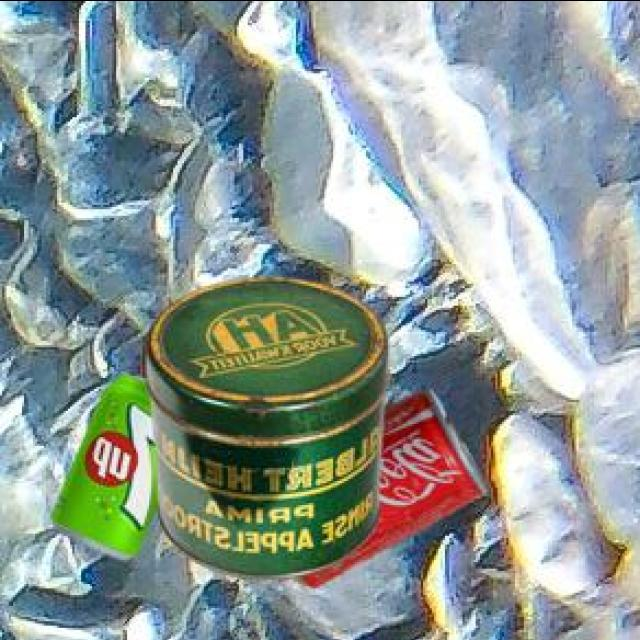logam: (144, 273, 385, 575), (290, 385, 483, 584), (49, 369, 155, 556)
